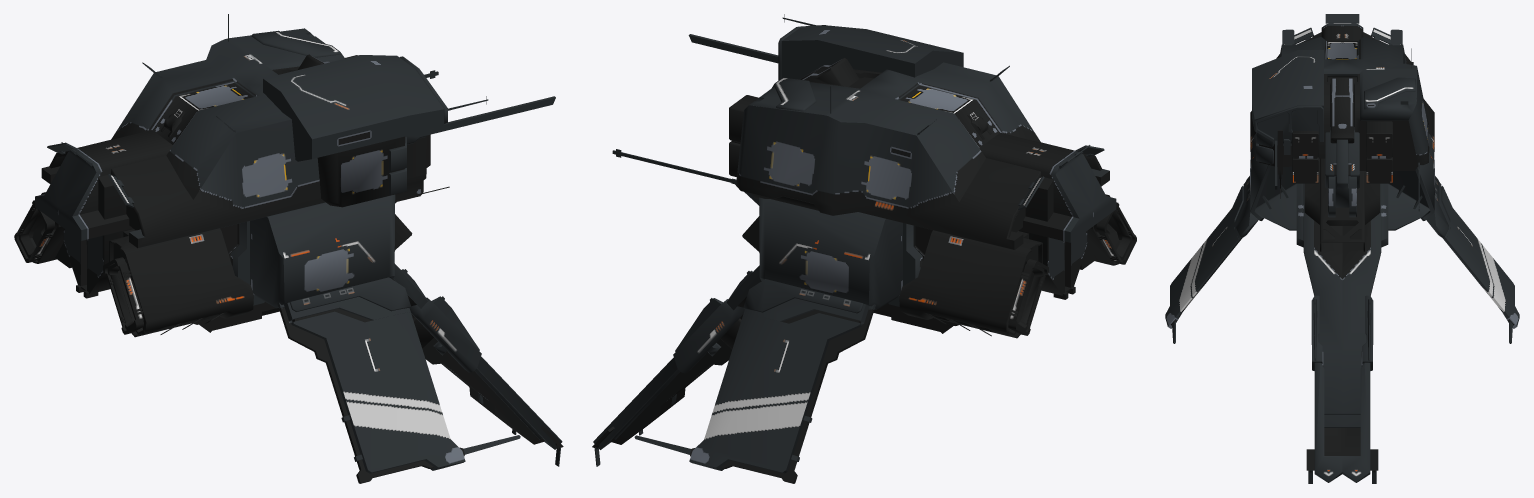
File: bantam.glb
3 views of the same model, side by side, from view 1: azimuth 30°, elevation 25°; view 2: azimuth 150°, elevation 25°; view 3: azimuth 270°, elevation 25° (orthographic). The views are drawn at different scales.
Parts seen in each view (by area): view 1: Bantam; view 2: Bantam; view 3: Bantam.
Part boxes in pixels (x1,y1,x2,y2): Bantam: (14, 14, 563, 483); Bantam: (592, 14, 1136, 483); Bantam: (1165, 14, 1519, 483).
Size of the model in its own units: 78.6 by 70.7 by 66.4.
Materials: 1 (1 with a texture image).
